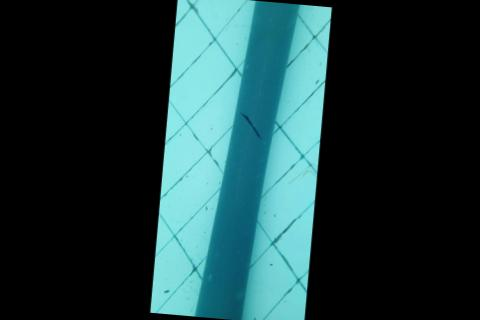keretakan: (236, 110, 265, 142)
